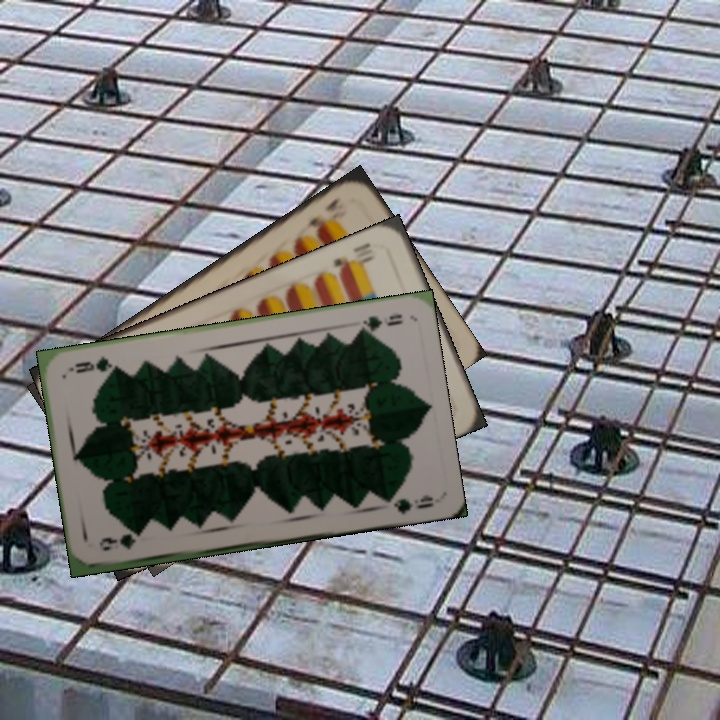E10: (329, 238, 377, 276), (302, 194, 342, 234)
G9: (352, 310, 406, 336), (94, 532, 138, 554)
